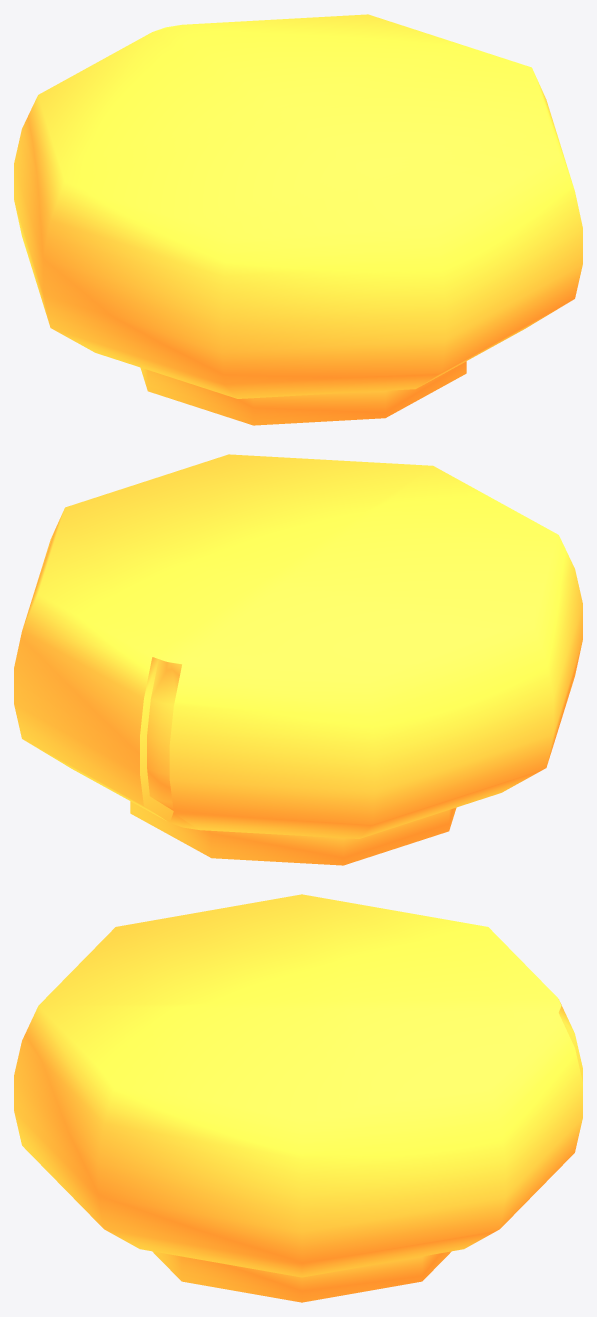
The model's file is gold_pommel_033.glb.
3 renders of one model, top to bottom at view 1: azimuth 30°, elevation 25°; view 2: azimuth 150°, elevation 25°; view 3: azimuth 270°, elevation 25°, orthographic. The views are drawn at different scales.
Parts seen in each view (by area): view 1: gold_pommel_033; view 2: gold_pommel_033; view 3: gold_pommel_033.
Boxes of the visible parts, box(x1,y1,x2,y2) form: gold_pommel_033: box(14, 14, 582, 425); gold_pommel_033: box(14, 454, 582, 865); gold_pommel_033: box(14, 894, 582, 1302).
Size of the model in its own units: 1.84 by 0.933 by 1.81.
Materials: 1 (1 with a texture image).
